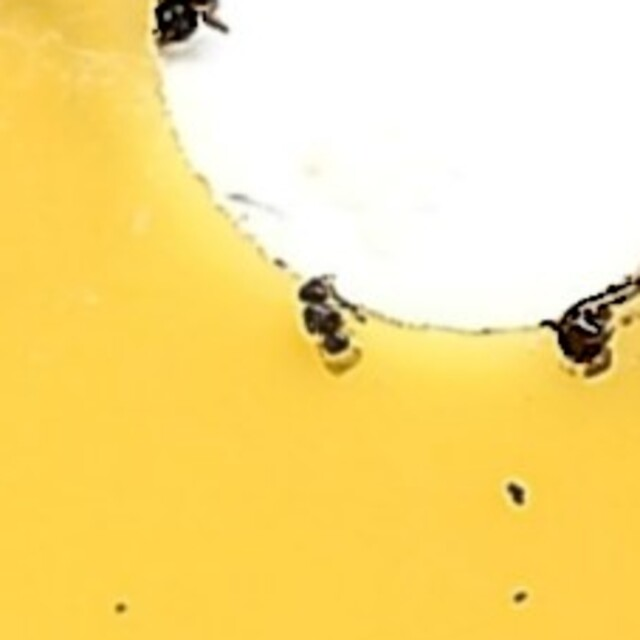Hymenoptera: (282, 269, 358, 371)
